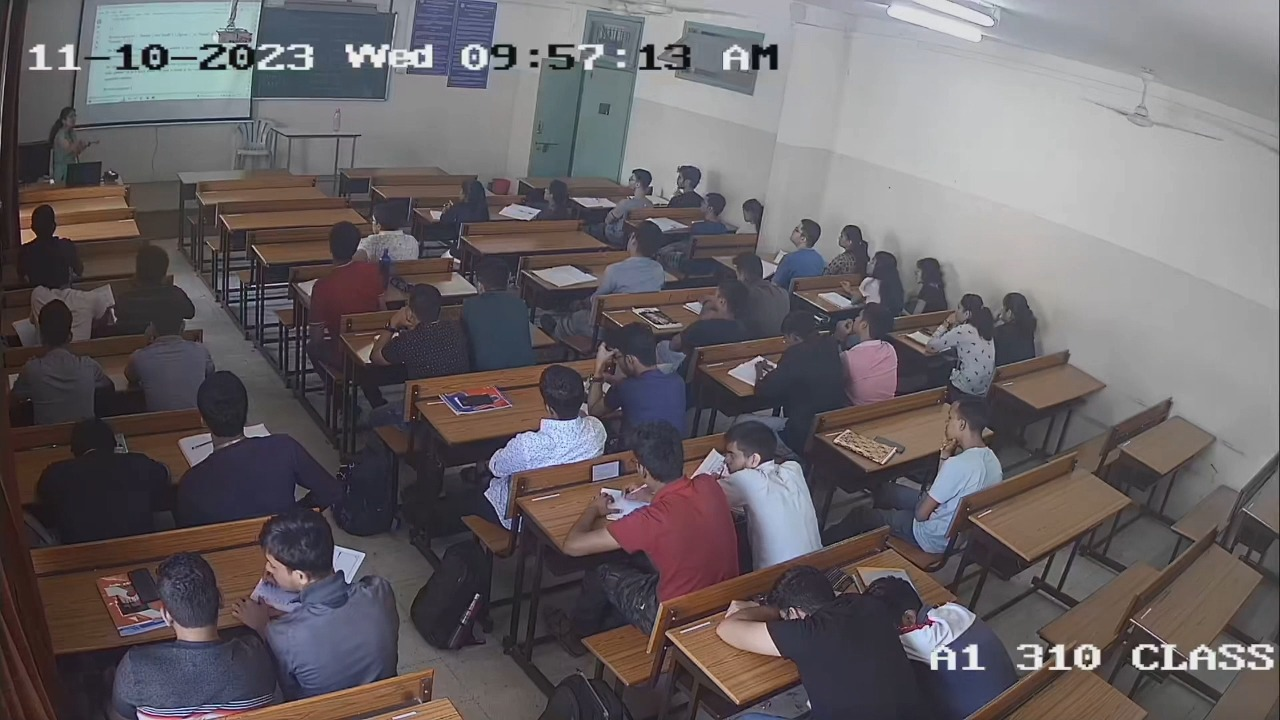cell-phones: (126, 566, 162, 606), (589, 458, 623, 482), (872, 434, 908, 455), (456, 392, 496, 408), (573, 262, 595, 276)
person: (107, 548, 271, 712), (497, 362, 607, 465), (625, 414, 705, 514), (930, 398, 1009, 485), (595, 221, 671, 290)
